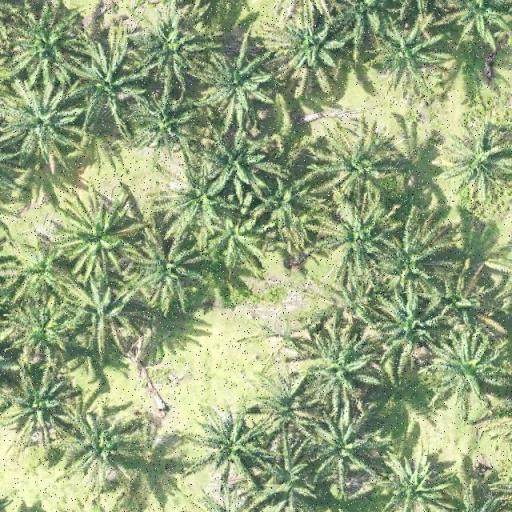Ganoderma: (271, 321, 302, 354)
